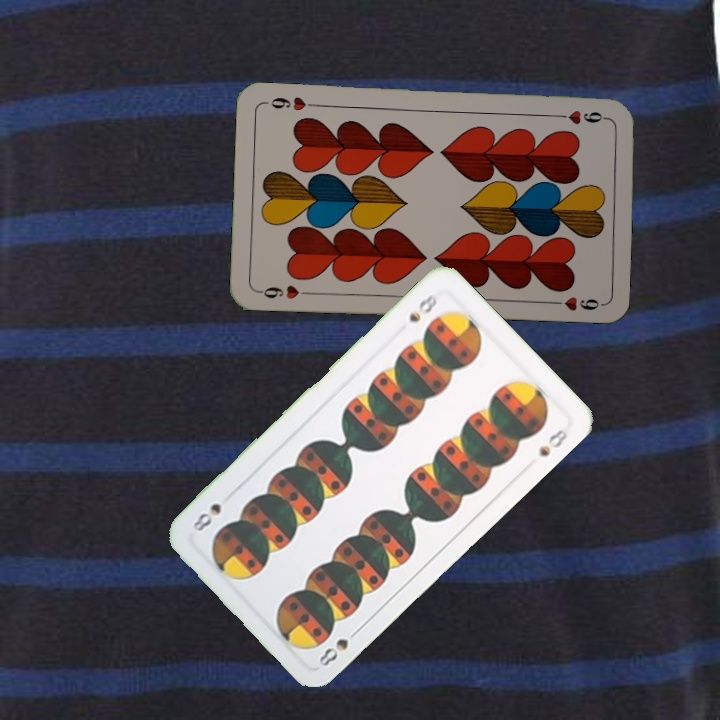H9: (551, 106, 610, 127), (254, 281, 313, 301)
S8: (314, 624, 363, 669), (404, 290, 440, 325)
